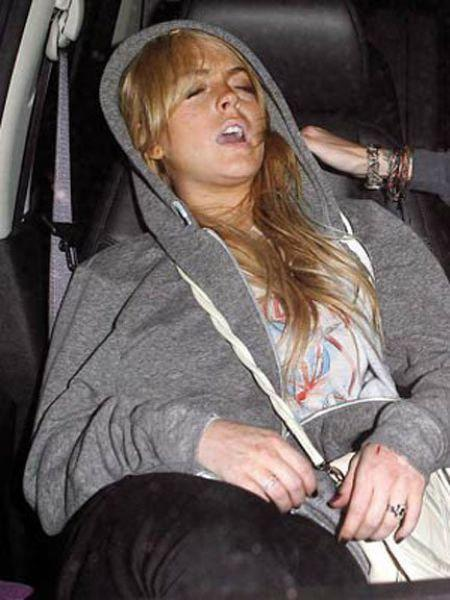Drunk: (164, 45, 267, 181)
